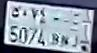0: (20, 8, 28, 45)
4: (38, 7, 46, 47)
5: (9, 6, 19, 44)
7: (28, 8, 38, 46)
B: (51, 14, 61, 47)
J: (71, 11, 79, 50)
N: (62, 14, 69, 47)
